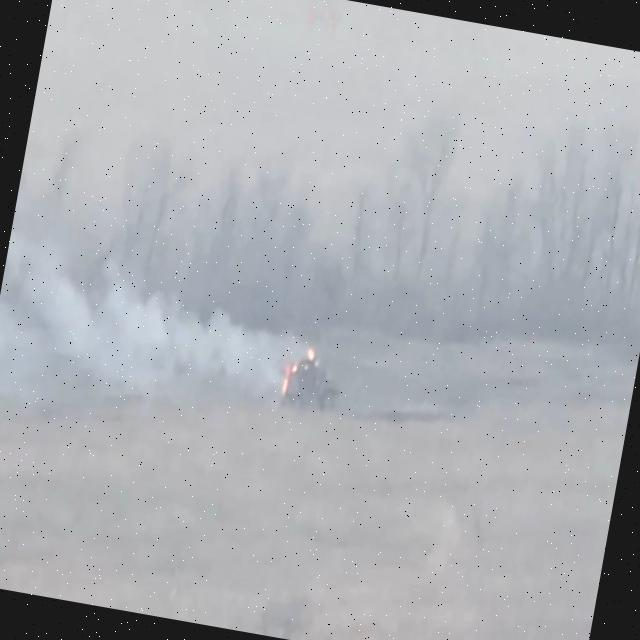Destroyed: (281, 347, 345, 413)
